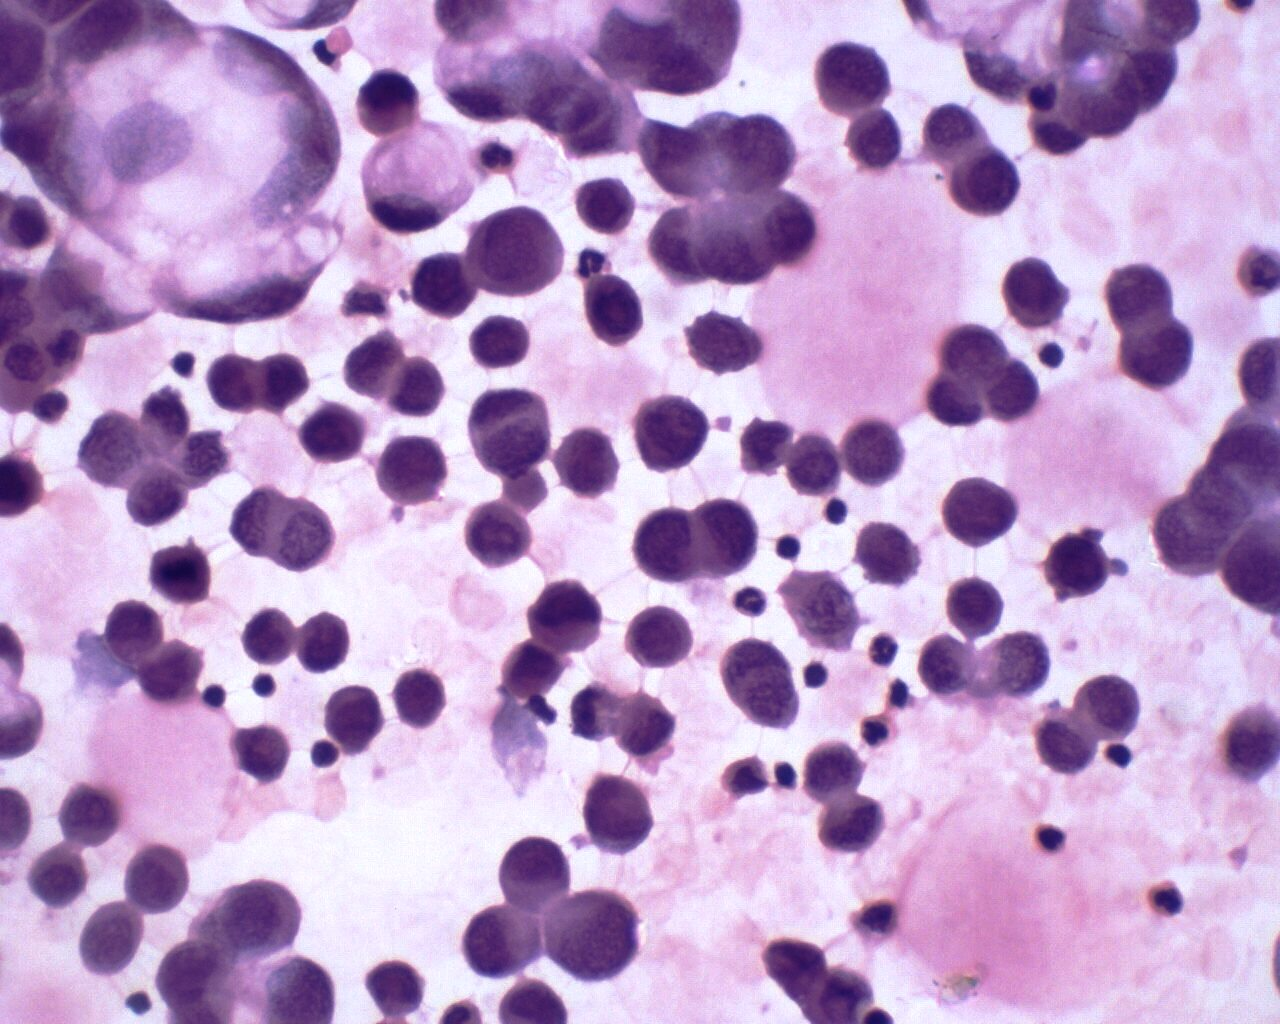ab: (812, 39, 897, 121), (630, 392, 709, 476), (498, 833, 575, 915), (375, 435, 456, 510), (940, 478, 1023, 549), (945, 146, 1022, 222), (551, 422, 624, 502), (997, 256, 1074, 329), (460, 498, 539, 569), (1041, 529, 1113, 604), (636, 504, 703, 582), (585, 272, 646, 349), (146, 542, 219, 606), (294, 401, 365, 465), (323, 682, 385, 755), (120, 845, 187, 912), (841, 104, 905, 174), (413, 249, 478, 317), (624, 604, 689, 670), (388, 667, 450, 732), (571, 174, 639, 233), (470, 313, 536, 371), (207, 351, 259, 417), (257, 349, 310, 413)
histo: (360, 109, 480, 233)
lymph: (200, 678, 235, 716), (797, 653, 833, 690), (770, 530, 805, 567), (1035, 335, 1070, 371)
neutro: (475, 136, 517, 179), (730, 584, 771, 620), (866, 631, 902, 670), (577, 243, 614, 278)
